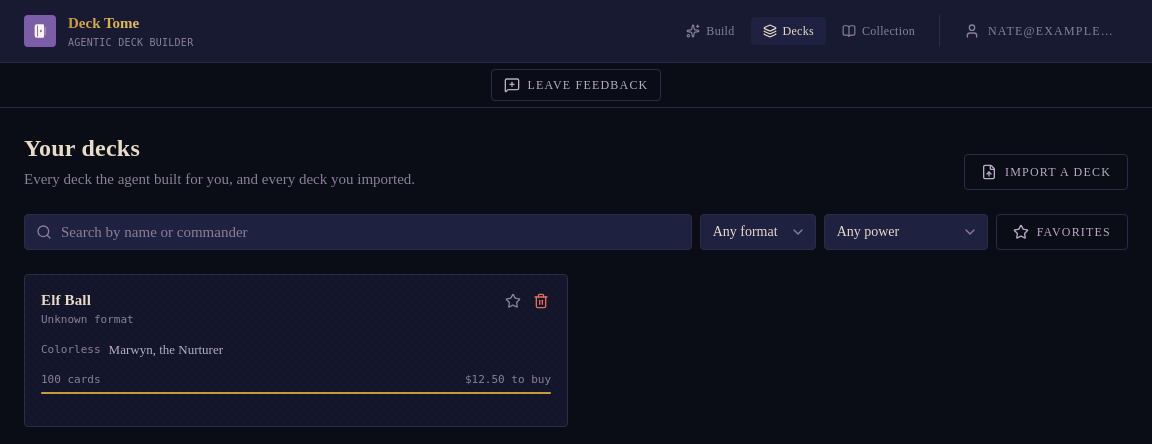
it: DecksPage › the star writes the favorite and the grid refreshes with no reload
This screenshot has width=1152, height=444.
Step 1. Click the button named "Add Elf Ball to your favorites" → {"x": 513, "y": 301}, box [499,287,527,315]
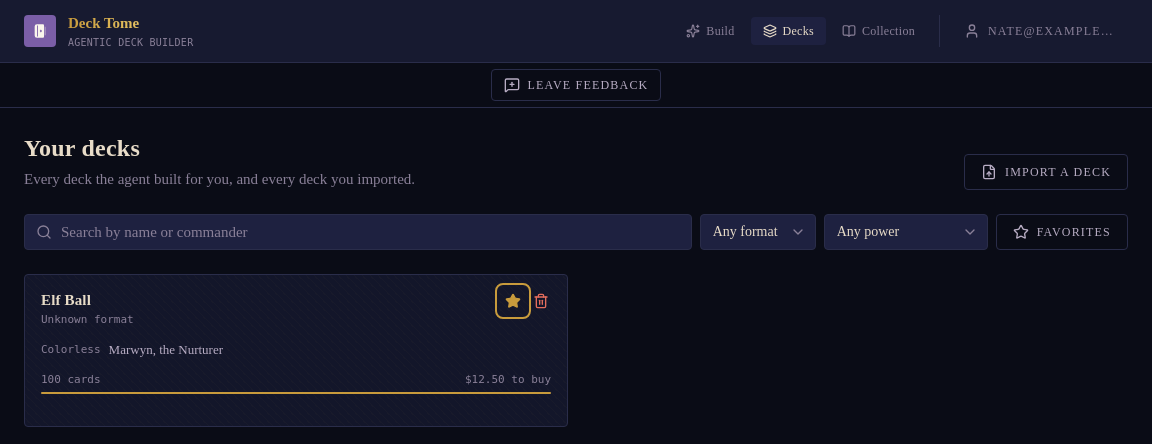
Result: the button named "Remove Elf Ball from your favorites" is shown at [499,287,527,315]
